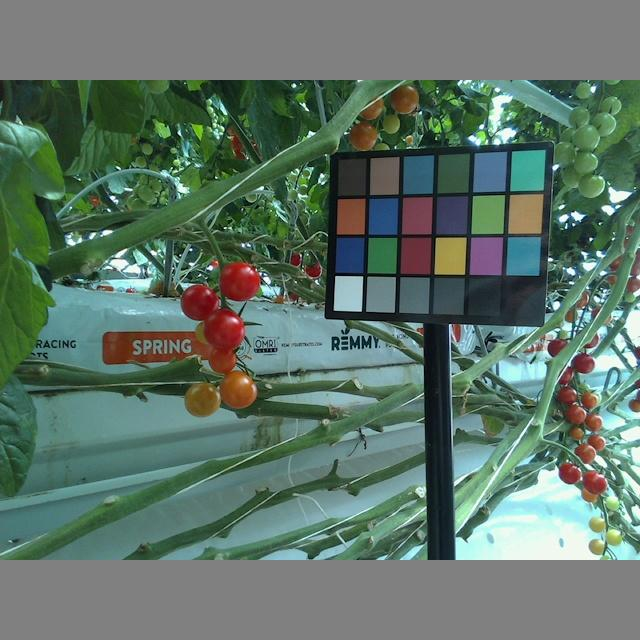green: (577, 171, 605, 199), (572, 126, 601, 150), (566, 106, 591, 131), (552, 140, 576, 165), (573, 151, 599, 174), (593, 113, 616, 137), (601, 95, 622, 118), (381, 113, 400, 134), (575, 81, 593, 99)
pink: (183, 381, 221, 418), (219, 372, 259, 407), (345, 120, 377, 150), (390, 85, 420, 116), (208, 343, 236, 374)
red: (203, 306, 246, 350), (220, 261, 261, 302), (178, 283, 221, 322)
